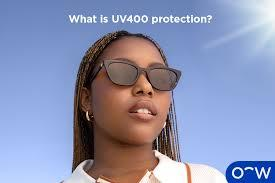sunglasses: (100, 57, 184, 94)
